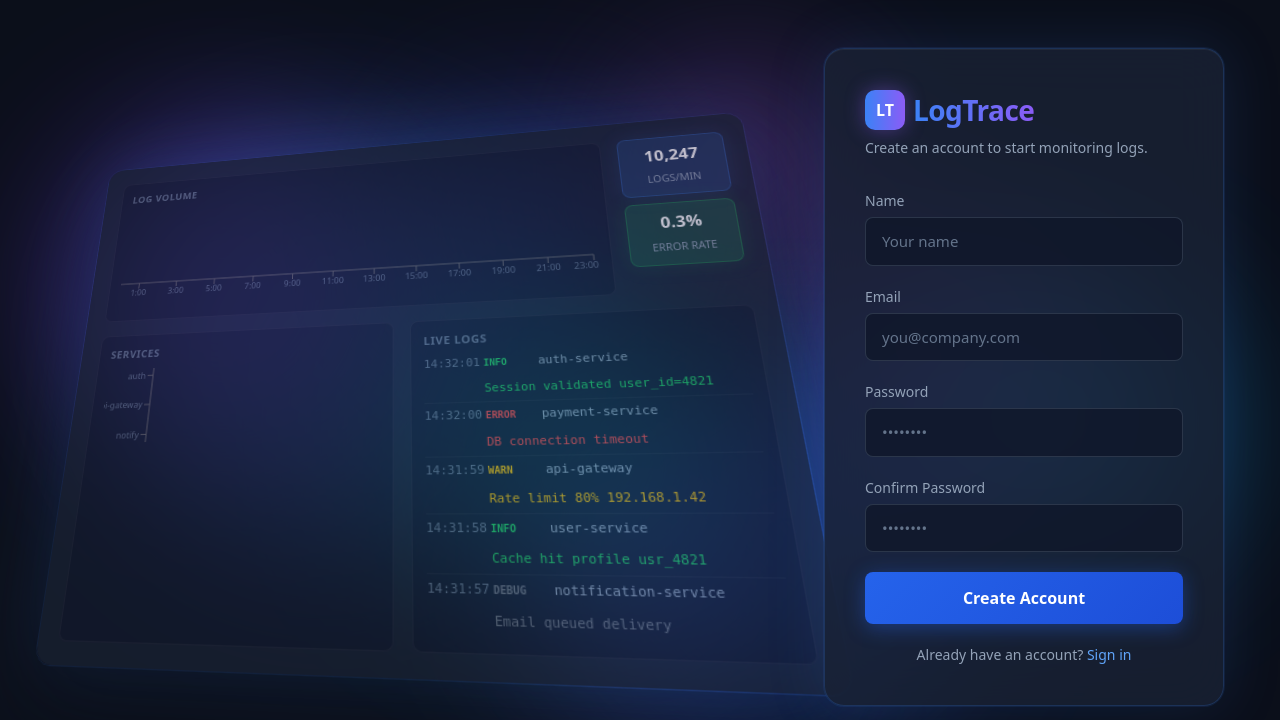
SignupPage › shows error when passwords do not match
Type "Test User" into the field labelled "Name" at (1024, 241), box x1=865 y1=217 x2=1183 y2=266
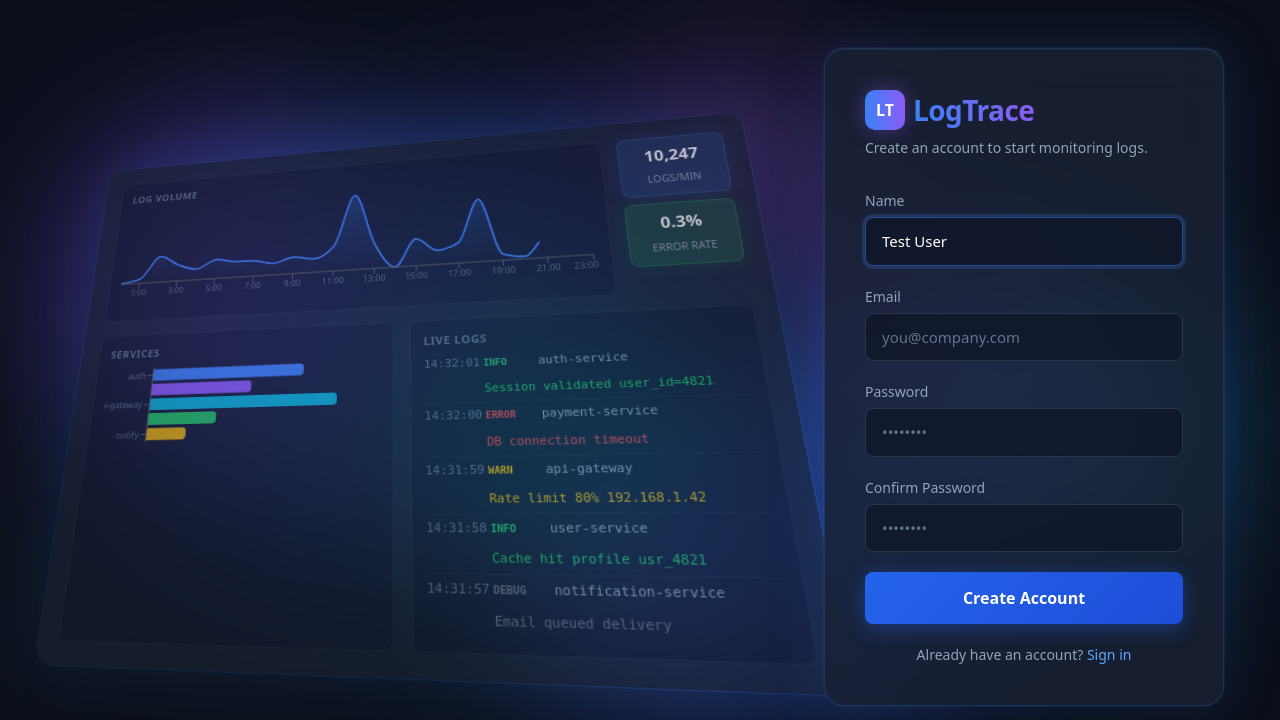
Type "test@example.com" into the field labelled "Email" at (1024, 337), box x1=865 y1=312 x2=1183 y2=361
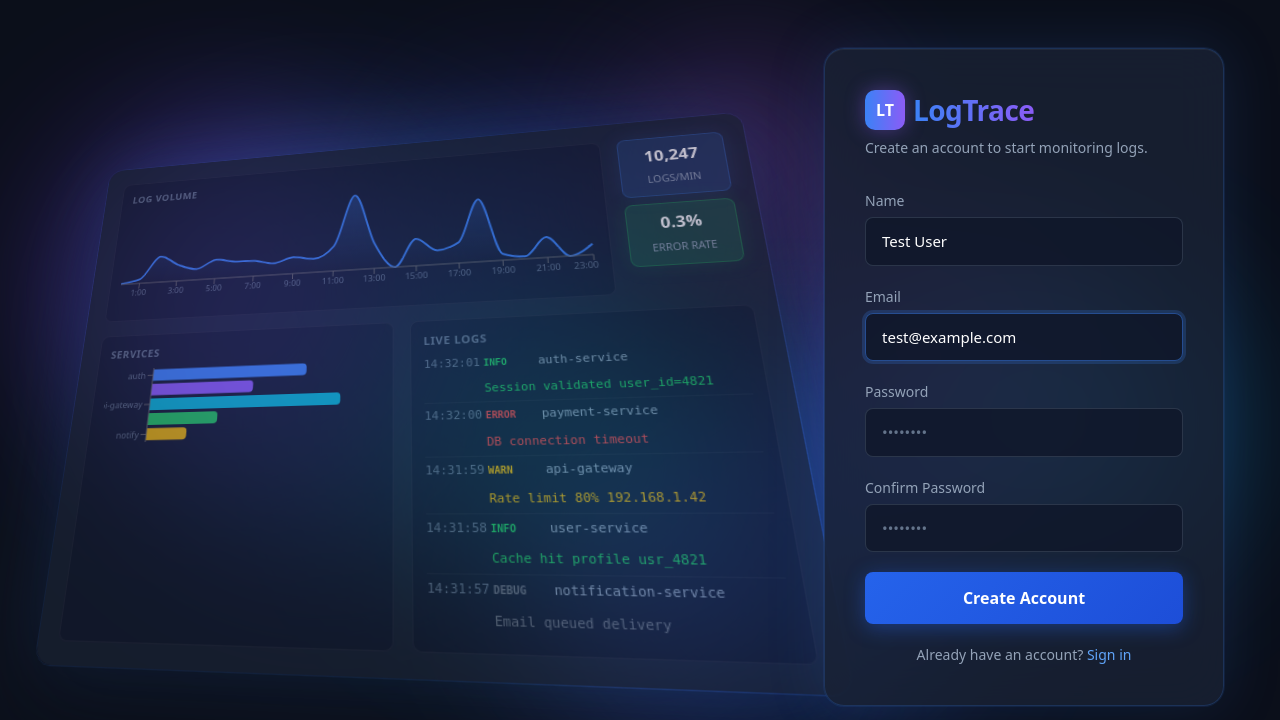
Type "password123" into the password field labelled "Password" at (1024, 432), box x1=865 y1=408 x2=1183 y2=456
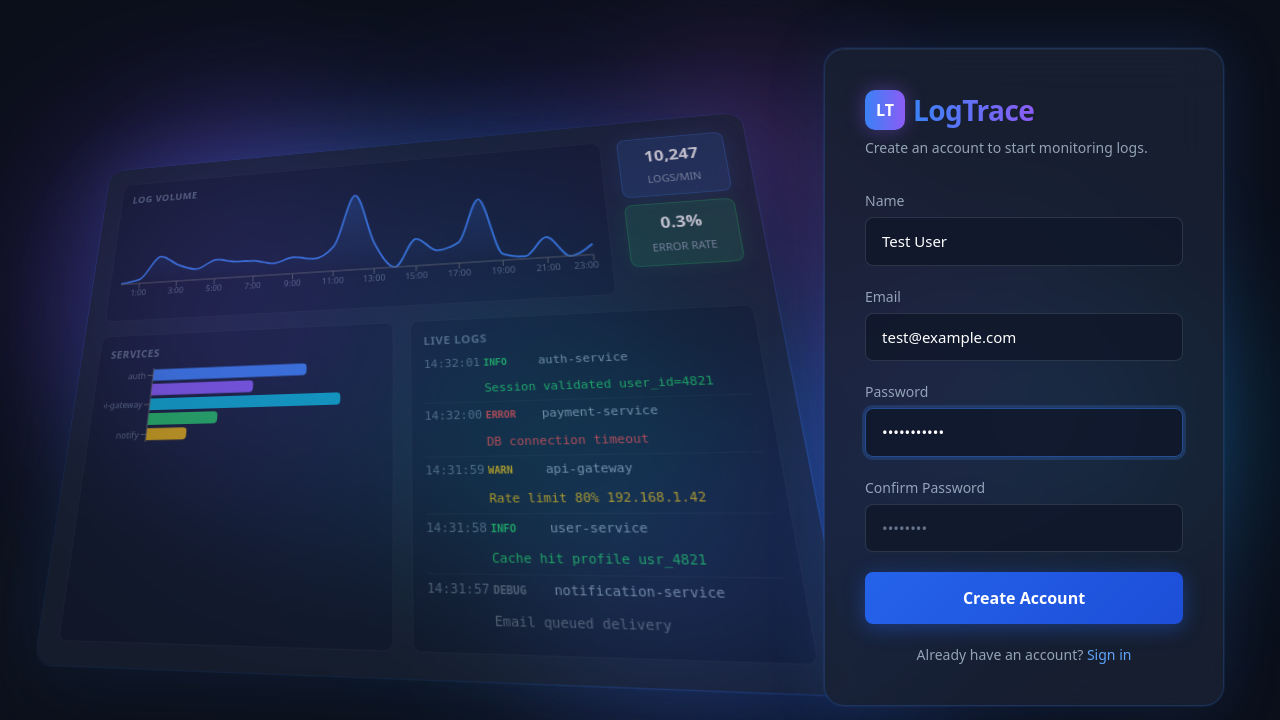
Type "different" into the password field labelled "Confirm Password" at (1024, 528), box x1=865 y1=504 x2=1183 y2=552
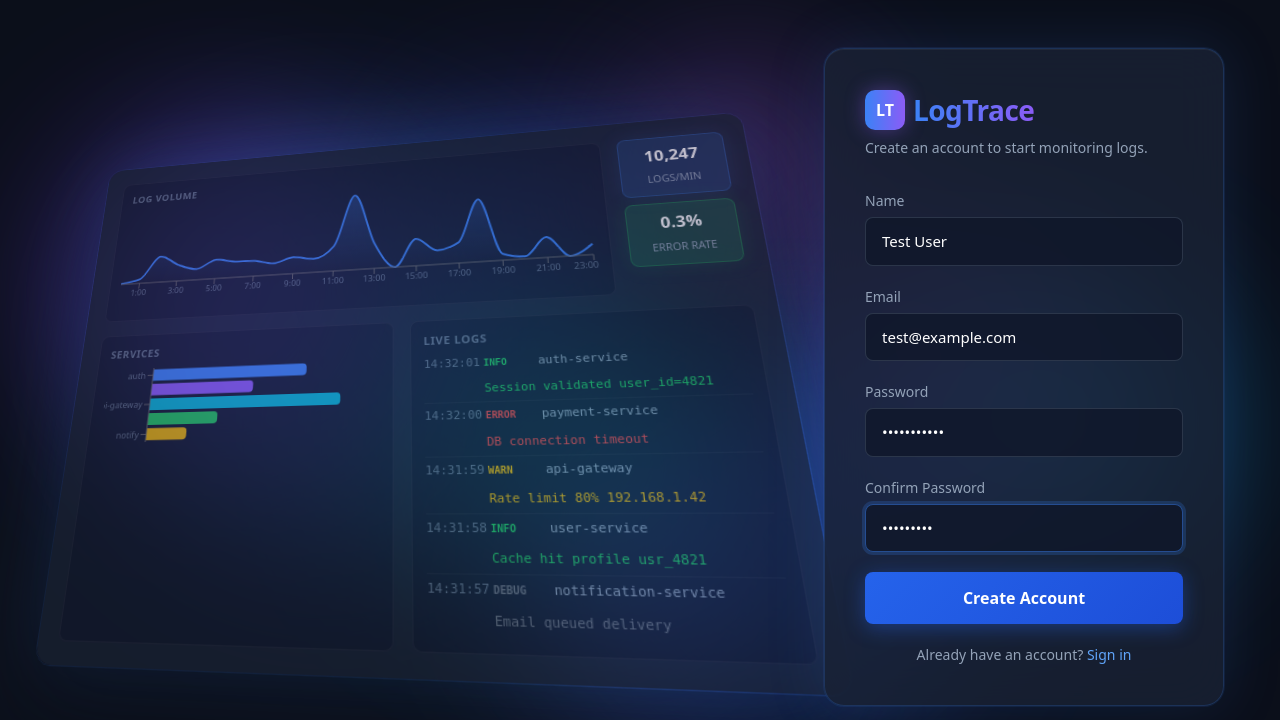
Click the button "Create Account" at (1024, 598), box x1=865 y1=572 x2=1183 y2=624
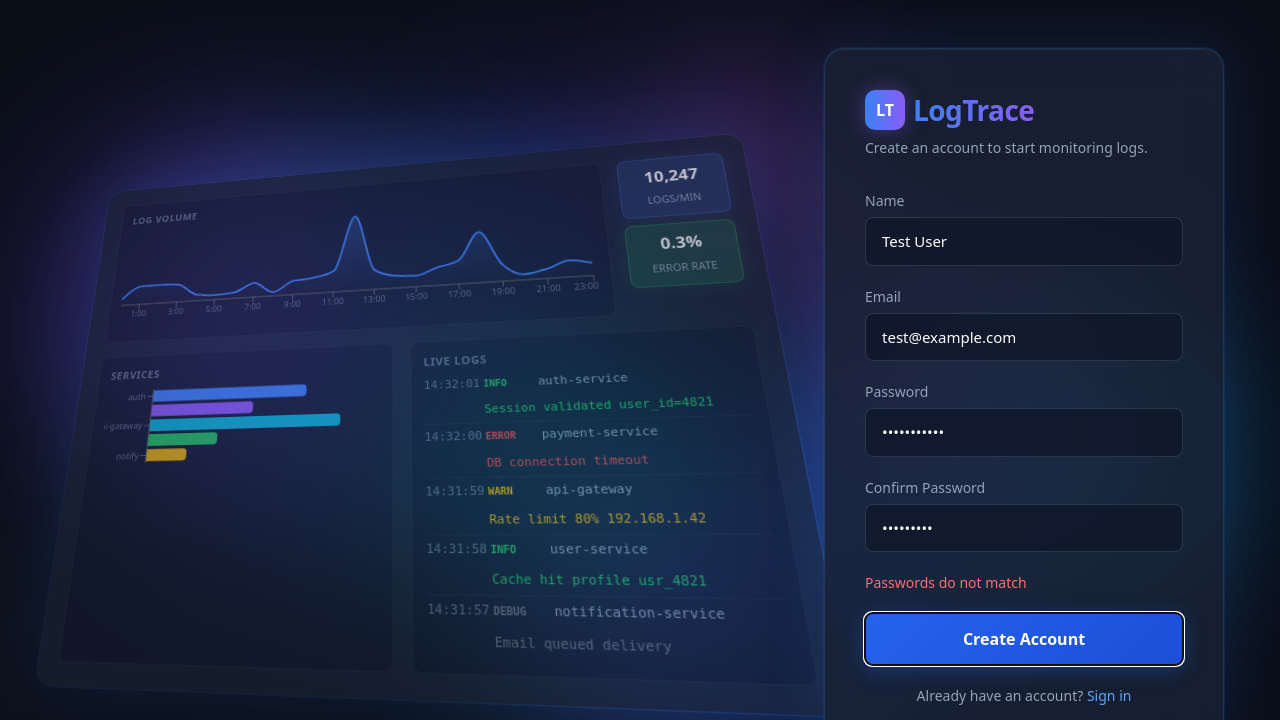
Expected: the text "Passwords do not match" is shown, x1=865 y1=573 x2=1027 y2=592
